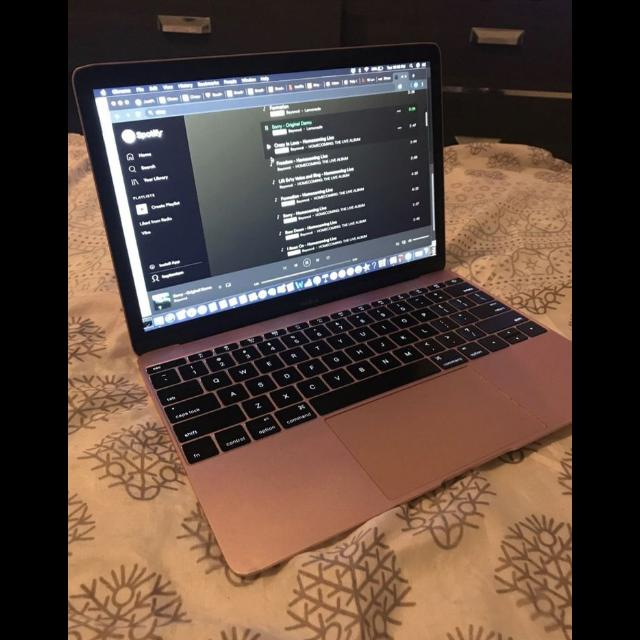laptop: (76, 43, 572, 574)
